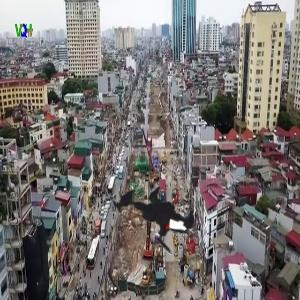drone: (89, 156, 218, 285)
